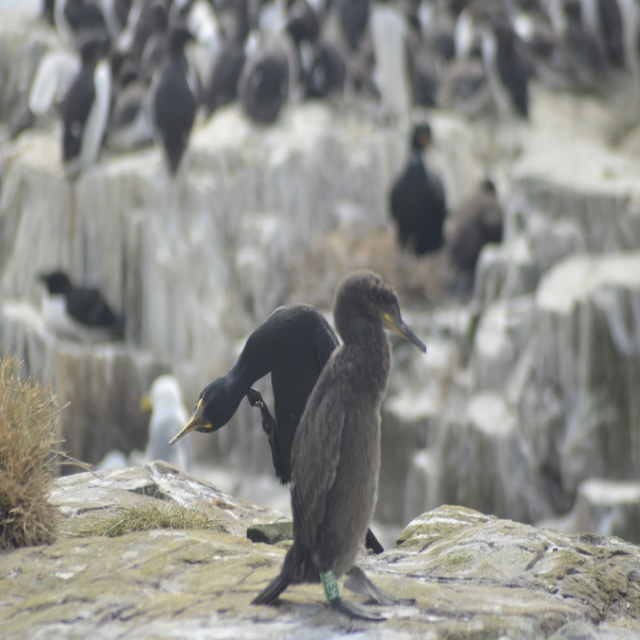Penguin: (33, 0, 640, 622)
